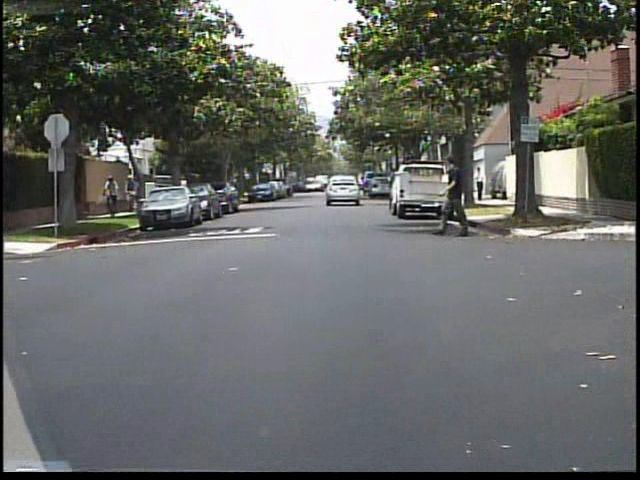person: (431, 153, 481, 236), (101, 171, 125, 216), (123, 170, 146, 207), (175, 171, 193, 209), (475, 163, 488, 203)
